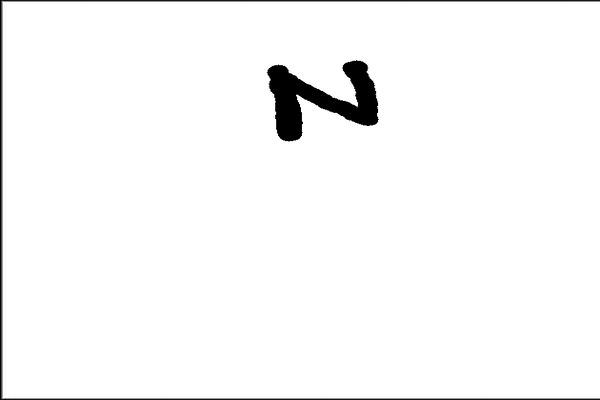N: (259, 51, 394, 142)
